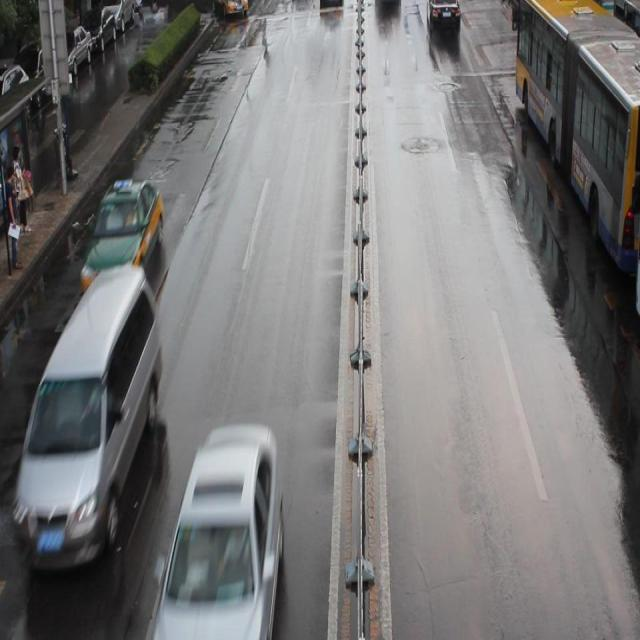car: (157, 423, 283, 640), (80, 178, 163, 296), (427, 1, 461, 30), (222, 2, 249, 15)
truck: (21, 262, 163, 568)
van: (514, 1, 640, 270), (633, 241, 640, 317)
